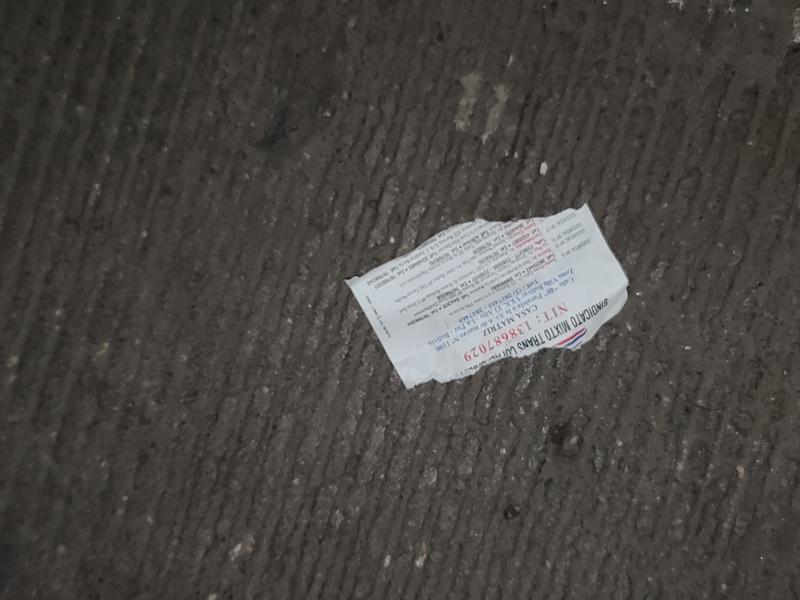papel: (346, 205, 630, 389)
